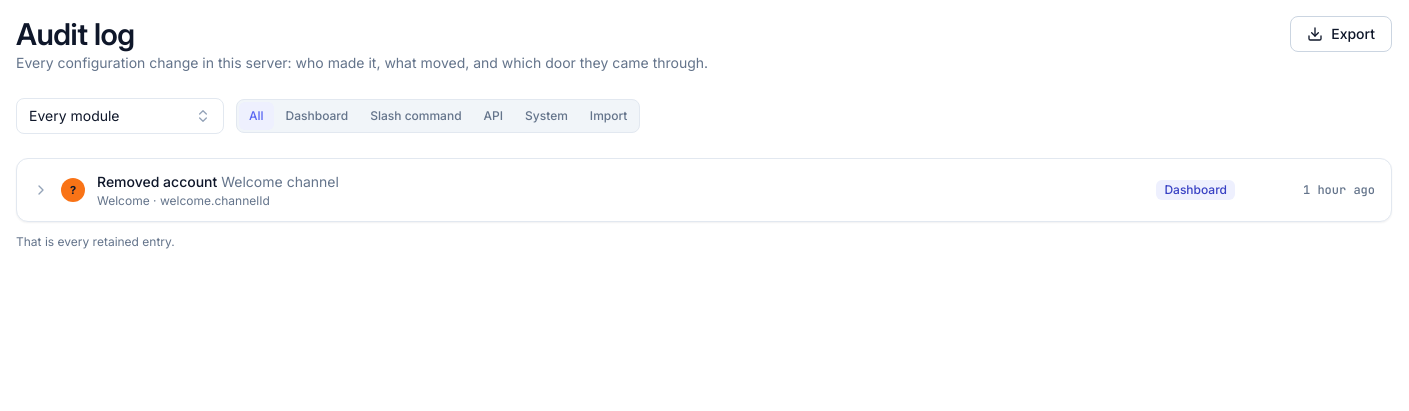
Test case: AuditScreen › explains the missing account only where it applies
Click the button that starts with "Removed account": {"x": 157, "y": 182} [17, 159, 1391, 221]
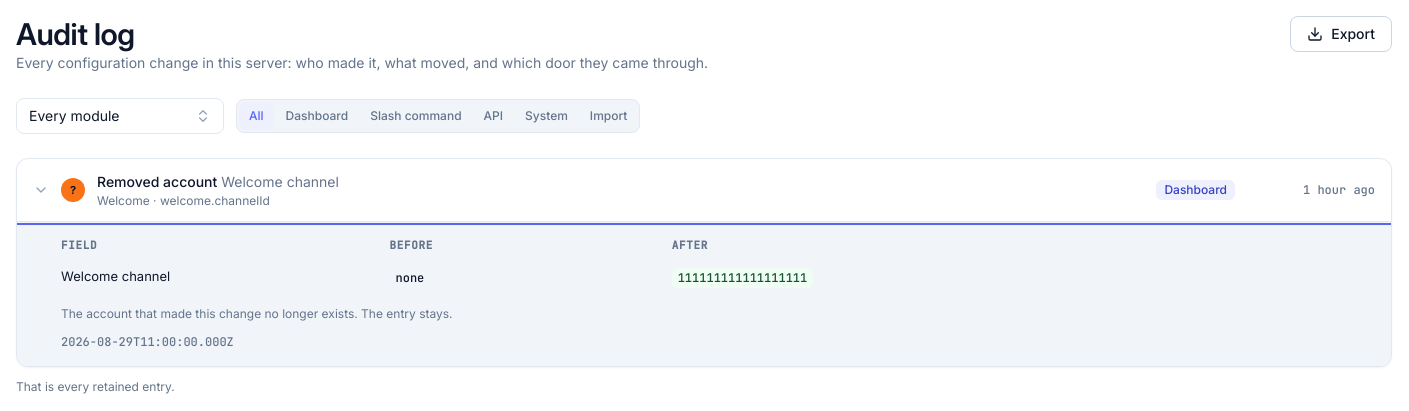
Now the text "The account that made this change no longer exists. The entry stays." is shown, box [61, 306, 453, 321]
